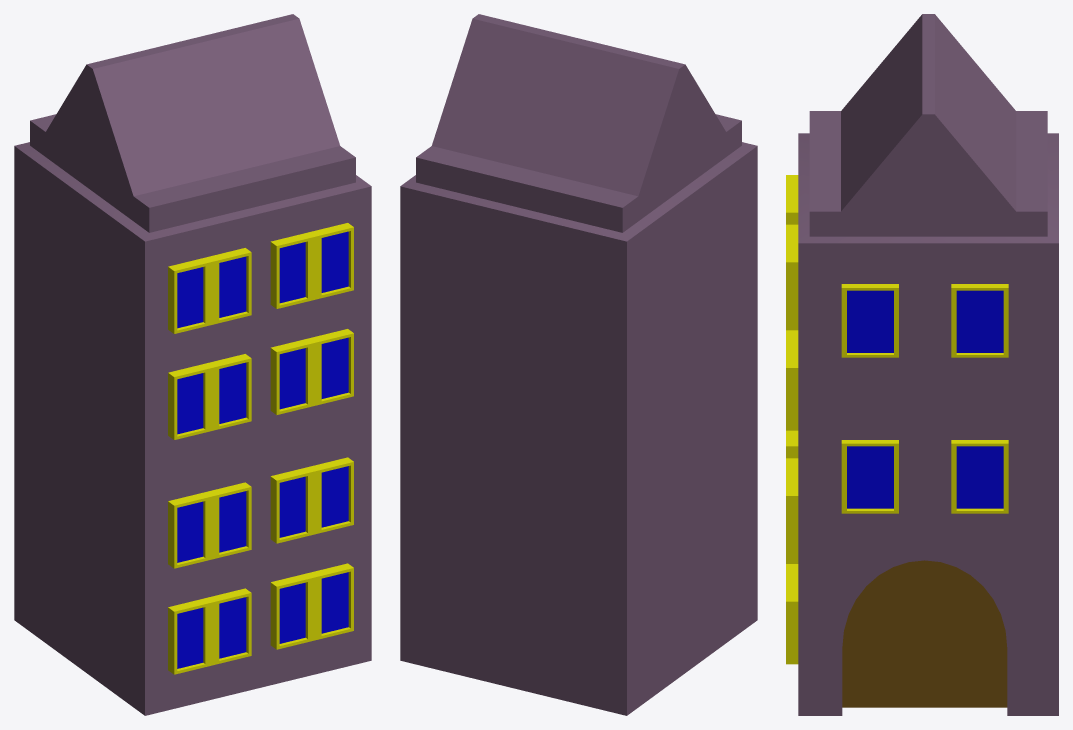
3 views of the same model, side by side, from view 1: azimuth 30°, elevation 25°; view 2: azimuth 150°, elevation 25°; view 3: azimuth 270°, elevation 25° (orthographic).
Visible parts, largest first — view 1: polySurface12, polySurface14, polySurface6, pCube19, pCube21, pCube26, pCube23, pCube20, pCube22, pCube25, pCube24; view 2: polySurface12, polySurface14, polySurface6; view 3: polySurface14, polySurface12, polySurface6, polySurface16, polySurface2, polySurface18, polySurface17, pCube24, pCube20, pCube23, pCube21, pCube25.
Part boxes in pixels (x1,y1,x2,y2): polySurface12: (14, 142, 371, 478); polySurface14: (14, 383, 371, 715); polySurface6: (30, 14, 355, 232); pCube19: (168, 482, 251, 568); pCube21: (270, 563, 353, 649); pCube26: (168, 354, 251, 439); pCube23: (270, 223, 353, 308); pCube20: (270, 457, 353, 543); pCube22: (168, 588, 251, 674); pCube25: (168, 248, 251, 333); pCube24: (270, 329, 353, 414); polySurface12: (400, 142, 757, 478); polySurface14: (400, 383, 757, 715); polySurface6: (416, 14, 741, 232); polySurface14: (798, 479, 1058, 715); polySurface12: (798, 133, 1058, 479); polySurface6: (809, 14, 1047, 236); polySurface16: (841, 440, 898, 513); polySurface2: (951, 440, 1008, 513); polySurface18: (841, 284, 898, 357); polySurface17: (951, 284, 1008, 357); pCube24: (786, 330, 798, 430); pCube20: (786, 458, 798, 558); pCube23: (786, 224, 798, 324); pCube21: (786, 564, 798, 664); pCube25: (786, 175, 798, 224).
Bounding box in the file's own units: 1696 × 4140 × 1717.
